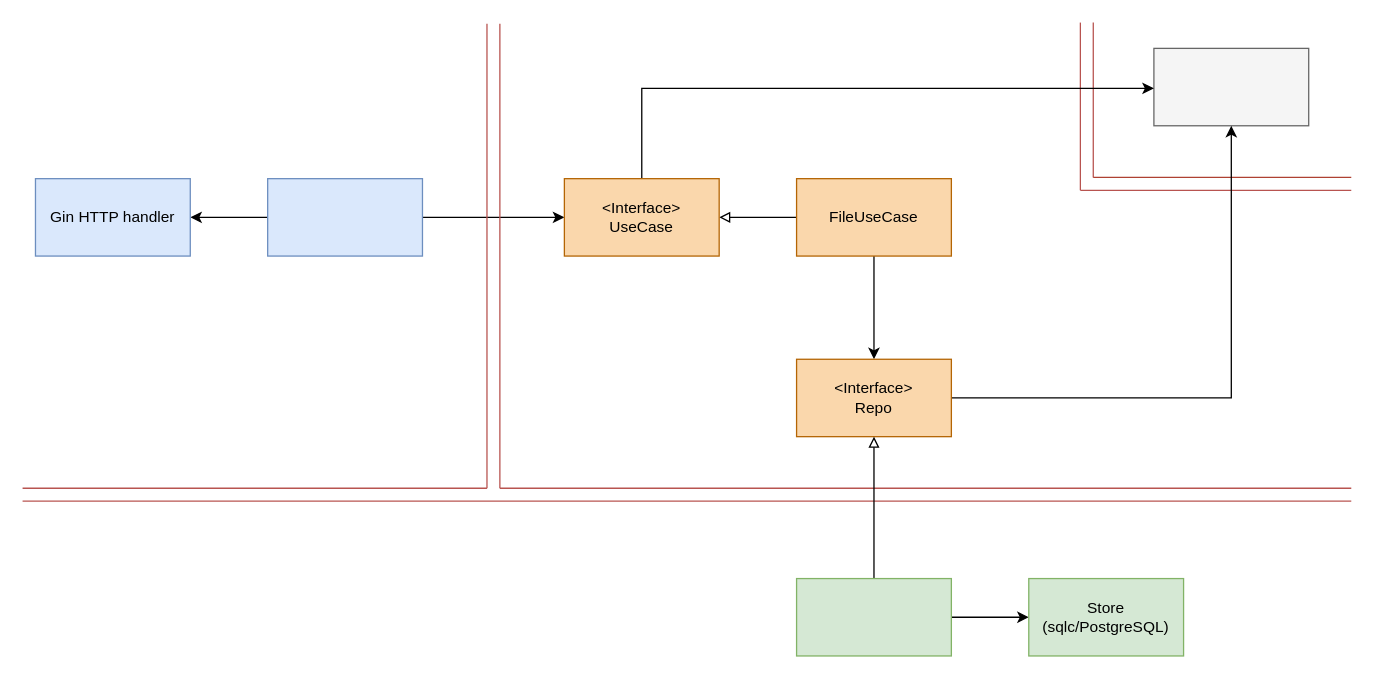
This 1375x679 diagram has some shape labels left out. The centre of each missing label's shape, as x and y in pixels:
"Delivery/Controller" belongs at (344,216).
"Entity" belongs at (1231,86).
"FileRepository" belongs at (873,616).
